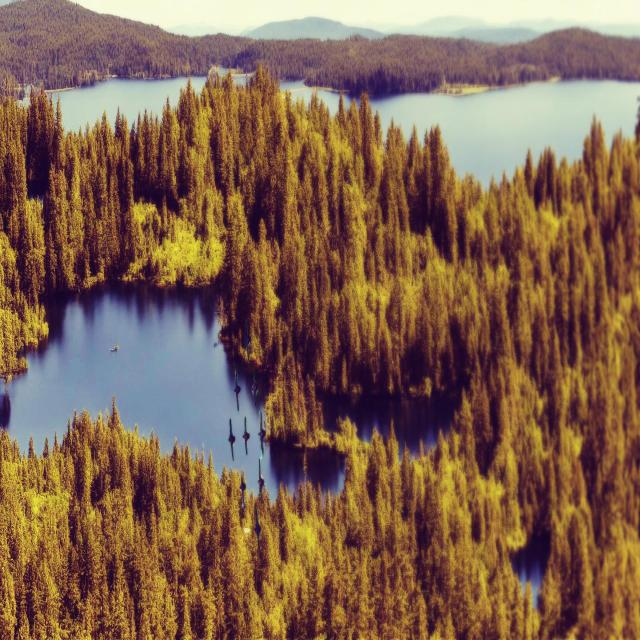airplane: (240, 416, 252, 456), (228, 418, 238, 463), (256, 457, 266, 499), (250, 371, 260, 412), (253, 511, 262, 552), (242, 320, 251, 359), (257, 416, 266, 455), (234, 372, 242, 414), (238, 471, 247, 508)
